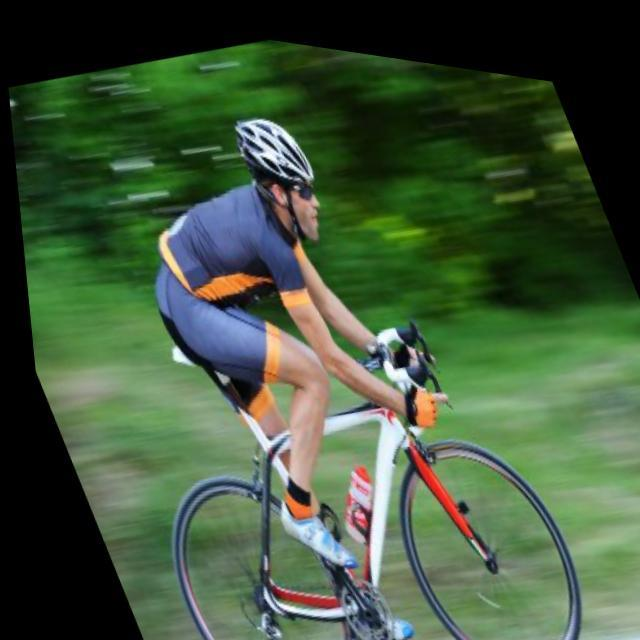Helmet: (220, 107, 334, 250)
